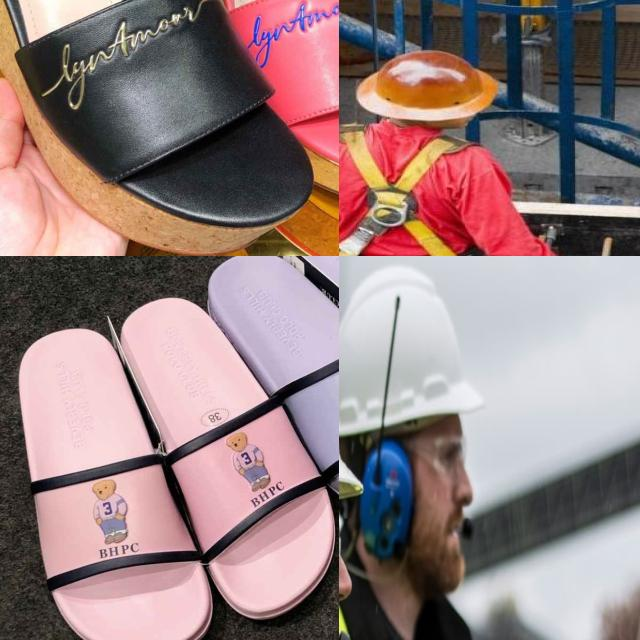Ear-protection: (339, 359, 474, 599)
Harness: (339, 126, 469, 256)
Sandals: (0, 265, 339, 640), (0, 0, 331, 255), (167, 256, 339, 541), (166, 0, 339, 221)
